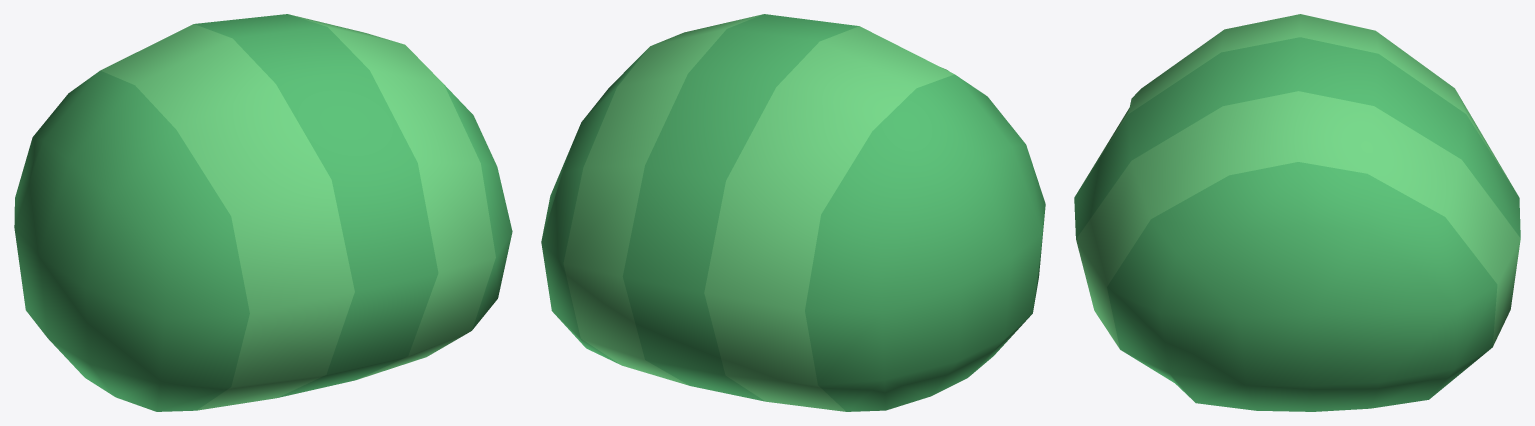
Rendered from Bush_E_01_LOD2.gltf.
The picture shows the model from 3 angles, left to right: view 1: azimuth 30°, elevation 25°; view 2: azimuth 150°, elevation 25°; view 3: azimuth 270°, elevation 25°; orthographic projection. The views are drawn at different scales.
Visible parts, largest first — view 1: Bush_E_01_LOD2_Cube.654; view 2: Bush_E_01_LOD2_Cube.654; view 3: Bush_E_01_LOD2_Cube.654.
Part boxes in pixels (x1,y1,x2,y2): Bush_E_01_LOD2_Cube.654: [14, 14, 512, 411]; Bush_E_01_LOD2_Cube.654: [541, 14, 1045, 411]; Bush_E_01_LOD2_Cube.654: [1074, 14, 1520, 411].
Bounding box in the file's own units: 5.68 × 3.9 × 5.36.
1 material, 1 textured.
